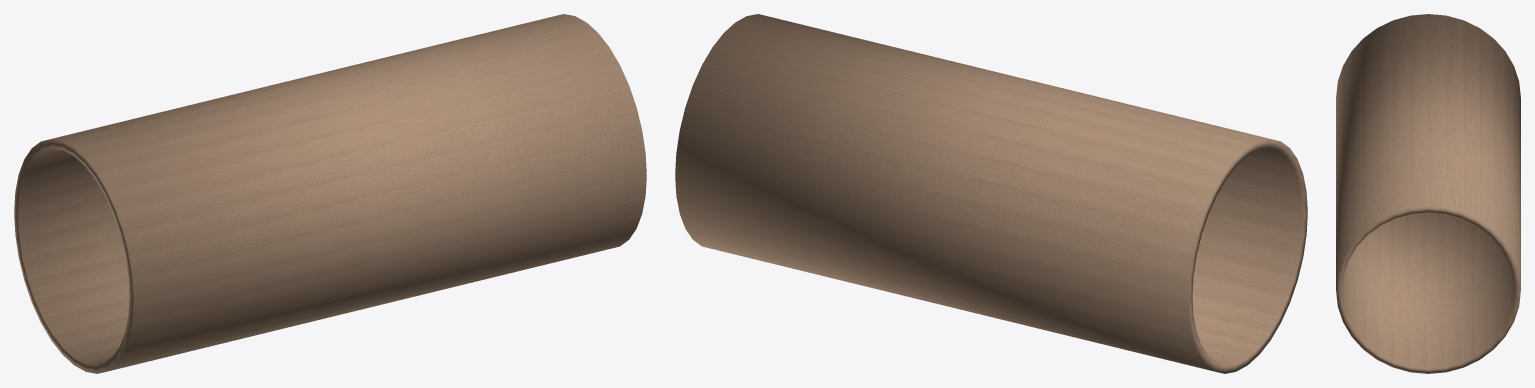
Rendered from Empty Toilet Paper Roll NEW.fbx.
3 renders of one model, left to right at view 1: azimuth 30°, elevation 25°; view 2: azimuth 150°, elevation 25°; view 3: azimuth 270°, elevation 25°, orthographic. The views are drawn at different scales.
Parts seen in each view (by area): view 1: Empty Toilet Paper Roll; view 2: Empty Toilet Paper Roll; view 3: Empty Toilet Paper Roll.
Part boxes in pixels (bbox=[...]): Empty Toilet Paper Roll: bbox=[14, 14, 646, 373]; Empty Toilet Paper Roll: bbox=[675, 14, 1307, 373]; Empty Toilet Paper Roll: bbox=[1336, 14, 1520, 373].
Size of the model in its own units: 27.57 by 11.17 by 11.17.
